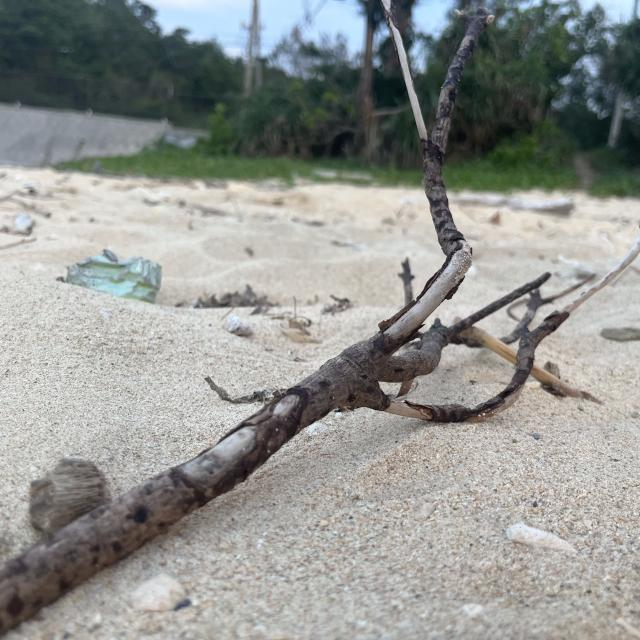rock: (26, 444, 120, 544)
stick: (0, 0, 640, 637)
trash: (56, 239, 175, 315)
